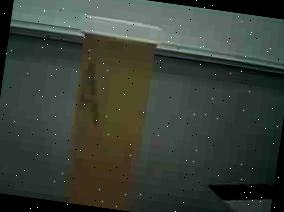Bottle A: (47, 2, 178, 212)
